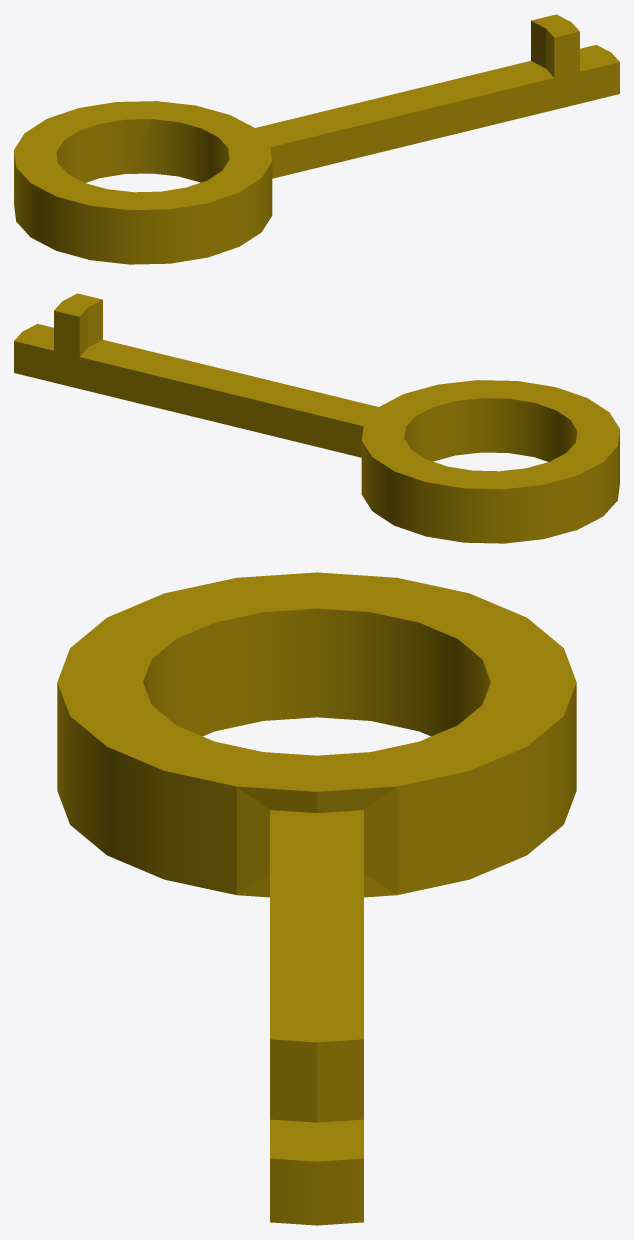
File: Key1.fbx
3 views of the same model, one above another, from view 1: azimuth 30°, elevation 25°; view 2: azimuth 150°, elevation 25°; view 3: azimuth 270°, elevation 25° (orthographic). The views are drawn at different scales.
Visible parts, largest first — view 1: pCylinder3; view 2: pCylinder3; view 3: pCylinder3.
Boxes of the visible parts, x1,y1,x2,y2 form: pCylinder3: (14, 14, 619, 264); pCylinder3: (14, 293, 619, 543); pCylinder3: (57, 572, 576, 1225).
Bounding box in the file's own units: 5.17 × 0.708 × 2.
